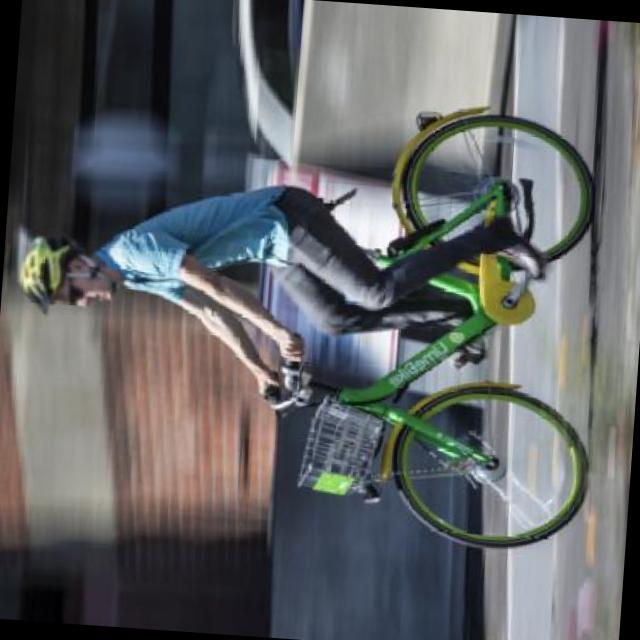With Helmet: (7, 228, 117, 324)
